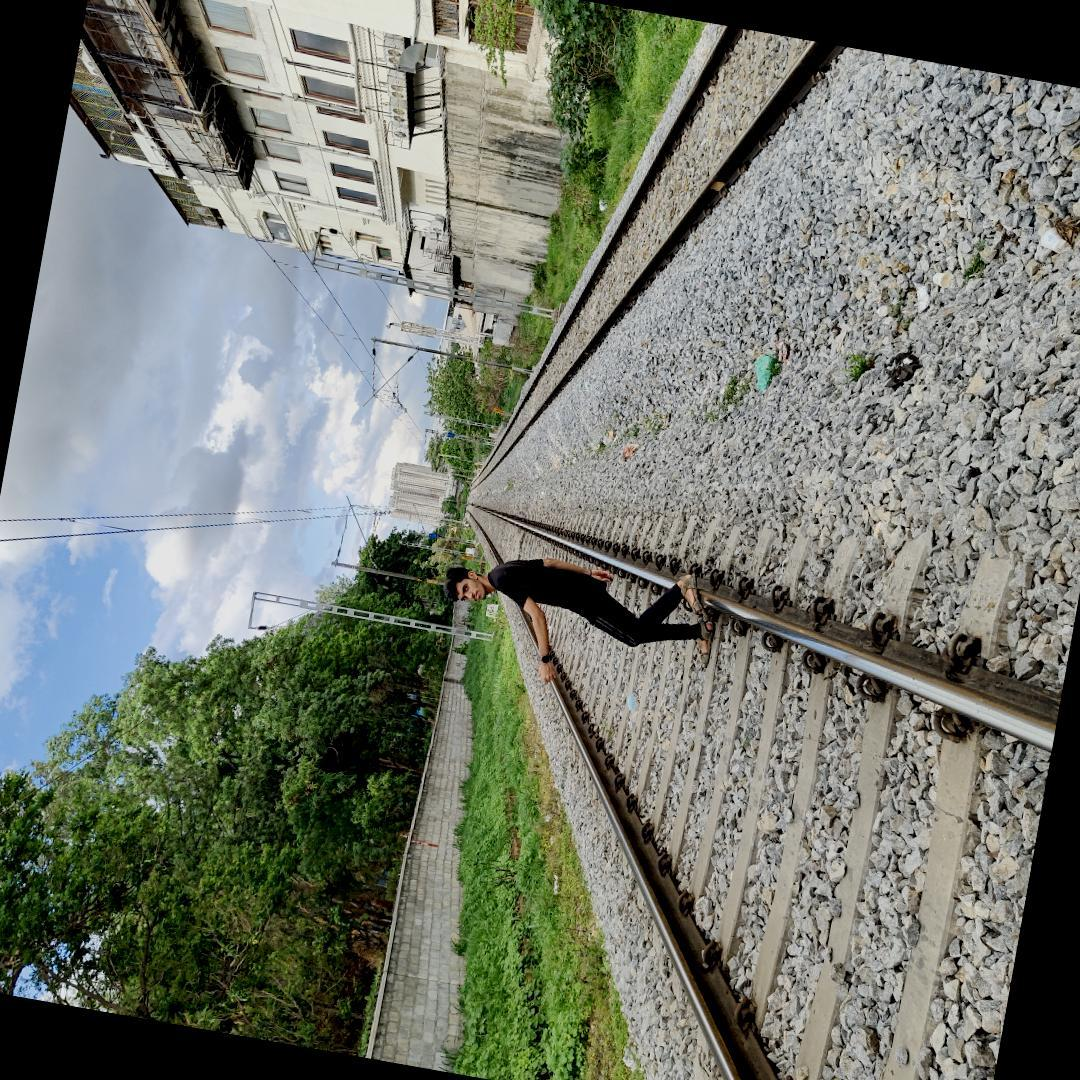standing: (441, 553, 722, 700)
